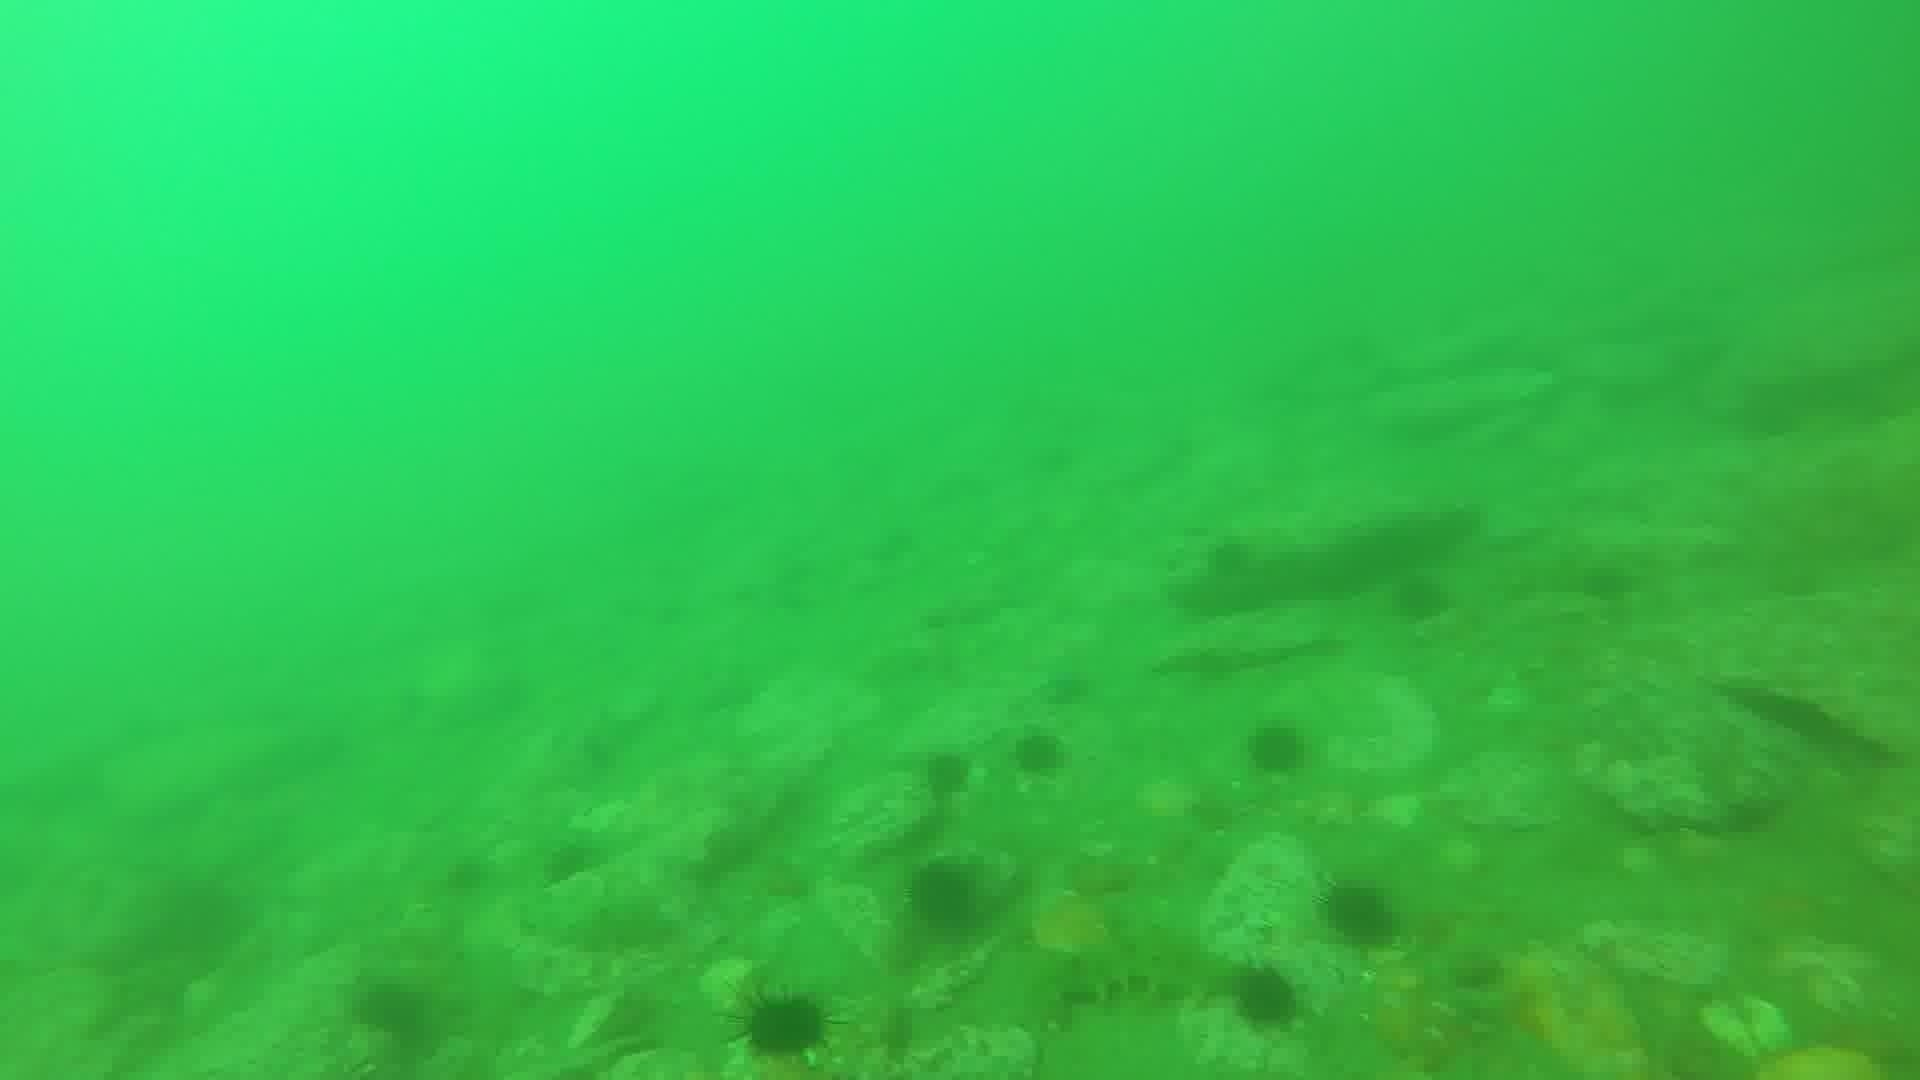echinus: (735, 986, 835, 1065), (347, 975, 439, 1052), (902, 856, 988, 939), (1316, 876, 1403, 953), (1224, 960, 1305, 1036), (1240, 716, 1313, 781), (1385, 568, 1455, 629), (538, 833, 607, 891), (914, 742, 977, 804), (1007, 727, 1071, 783), (1038, 665, 1097, 711), (443, 860, 488, 893)
holothurian: (1044, 930, 1240, 1013)
